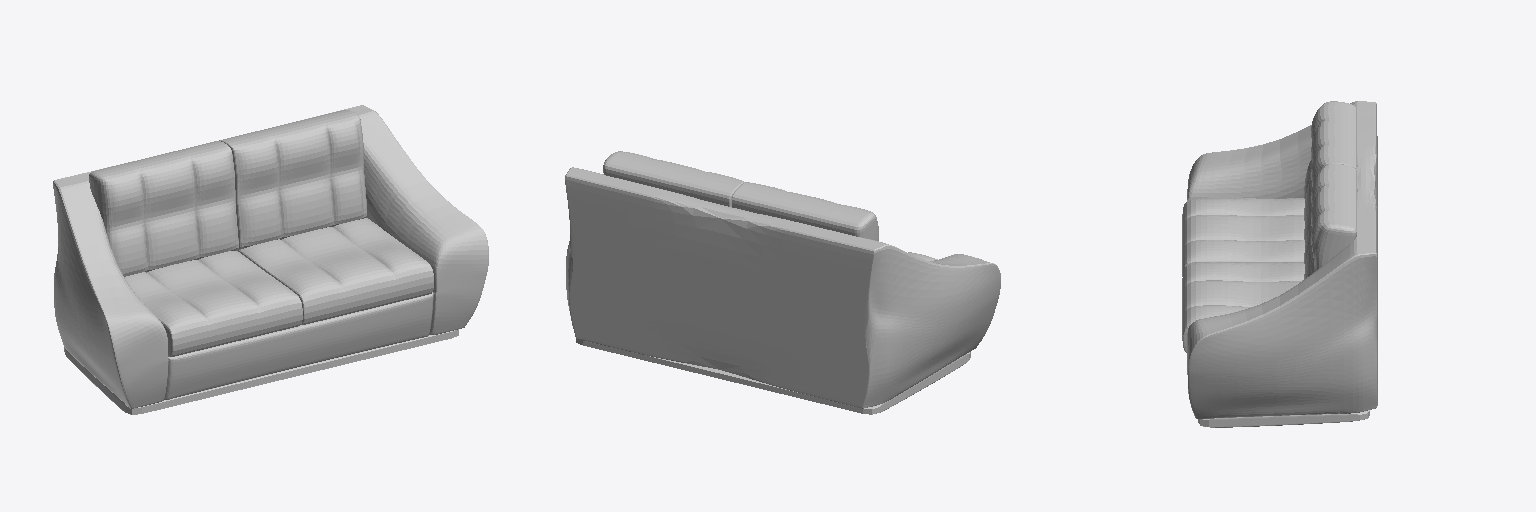
The model's file is t_sofa3.obj.
3 views of the same model, side by side, from view 1: azimuth 30°, elevation 25°; view 2: azimuth 150°, elevation 25°; view 3: azimuth 270°, elevation 25° (orthographic).
Size of the model in its own units: 5.74 by 2.68 by 2.57.